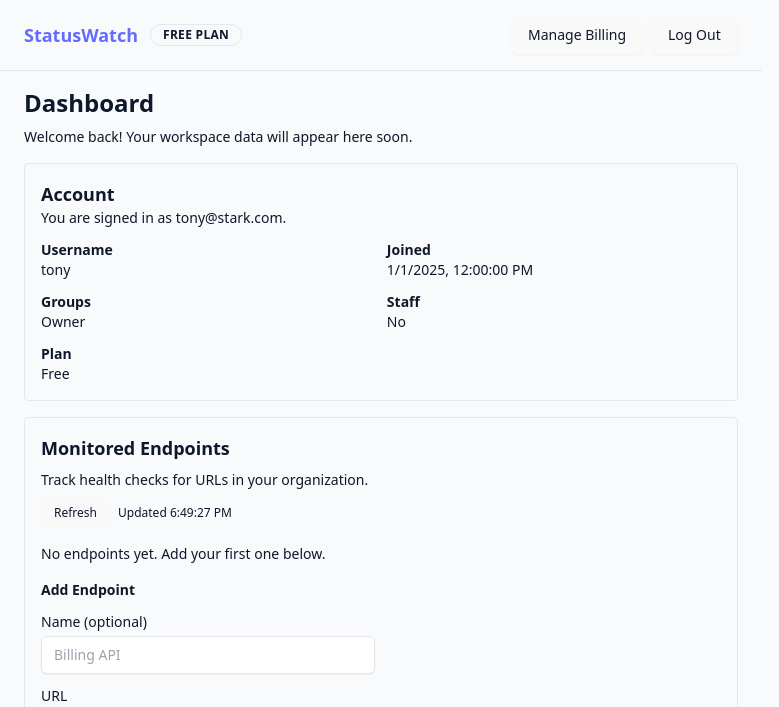
DashboardPage › shows a helpful message when logout fails
Expected: the text "You are signed in as tony@stark.com." is shown, [41, 208, 286, 227]
Step 1. Click the button "Log Out" → (694, 35), box [651, 16, 738, 54]
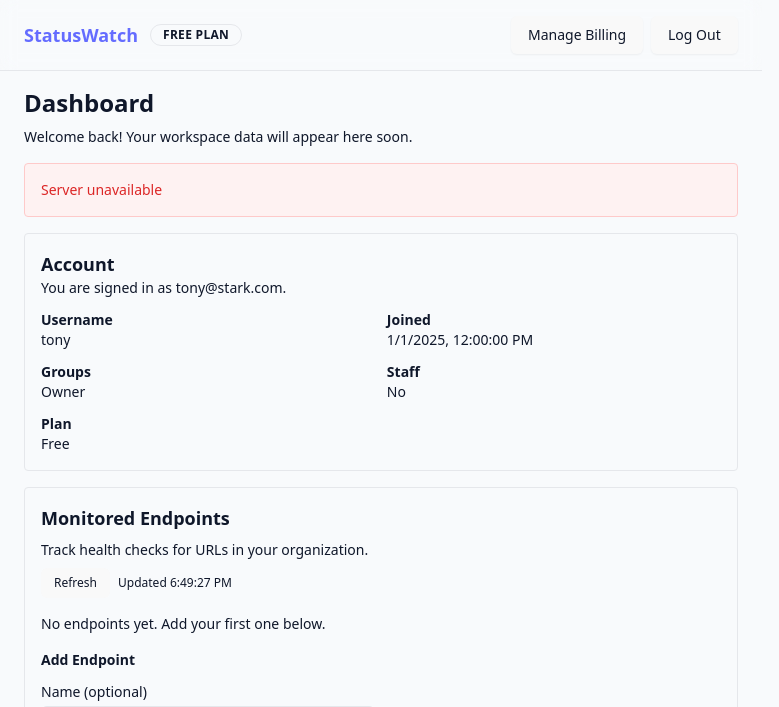
Now the text "Server unavailable" is shown, box [41, 180, 162, 199]
